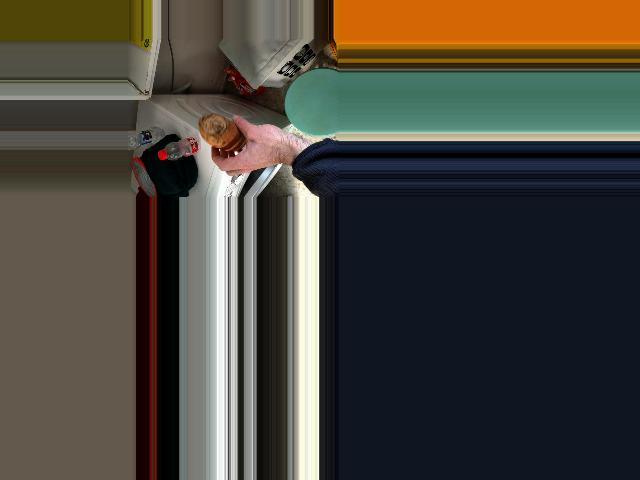sweet_potato: (198, 113, 247, 154)
